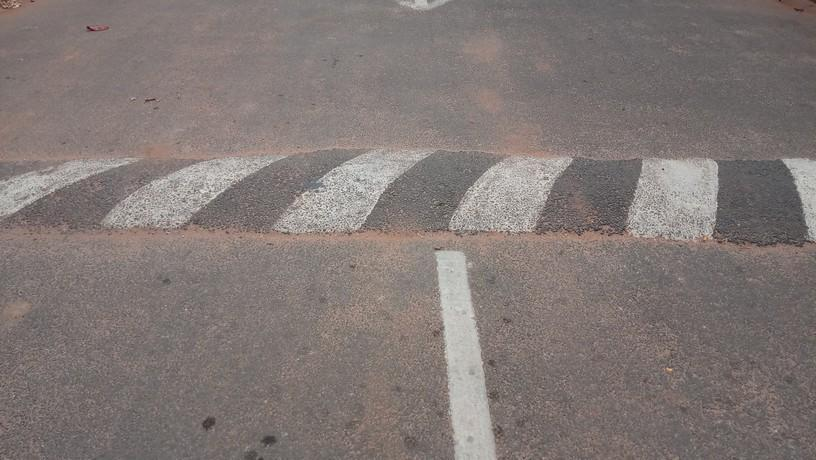speedbreaker: (0, 133, 816, 254)
